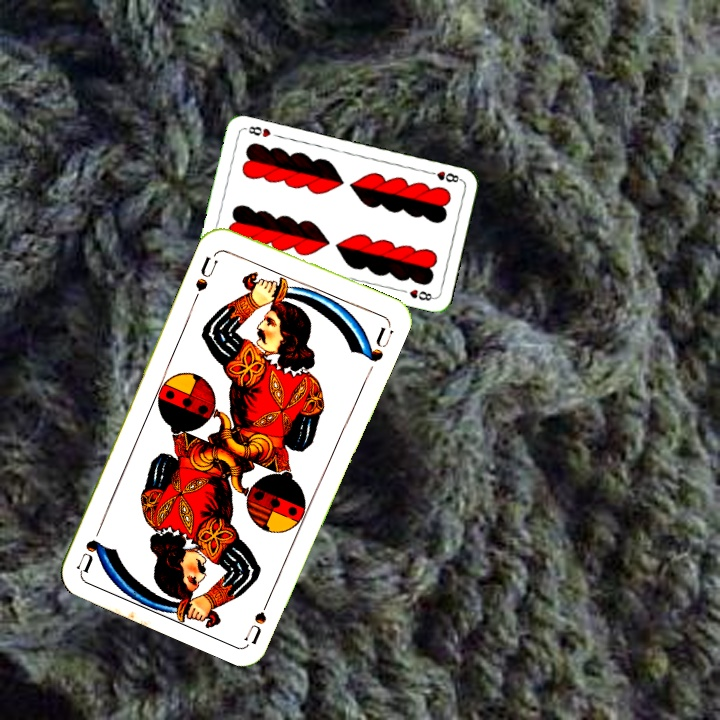H8: (424, 167, 464, 185)
SU: (240, 587, 276, 645), (189, 247, 221, 304)
